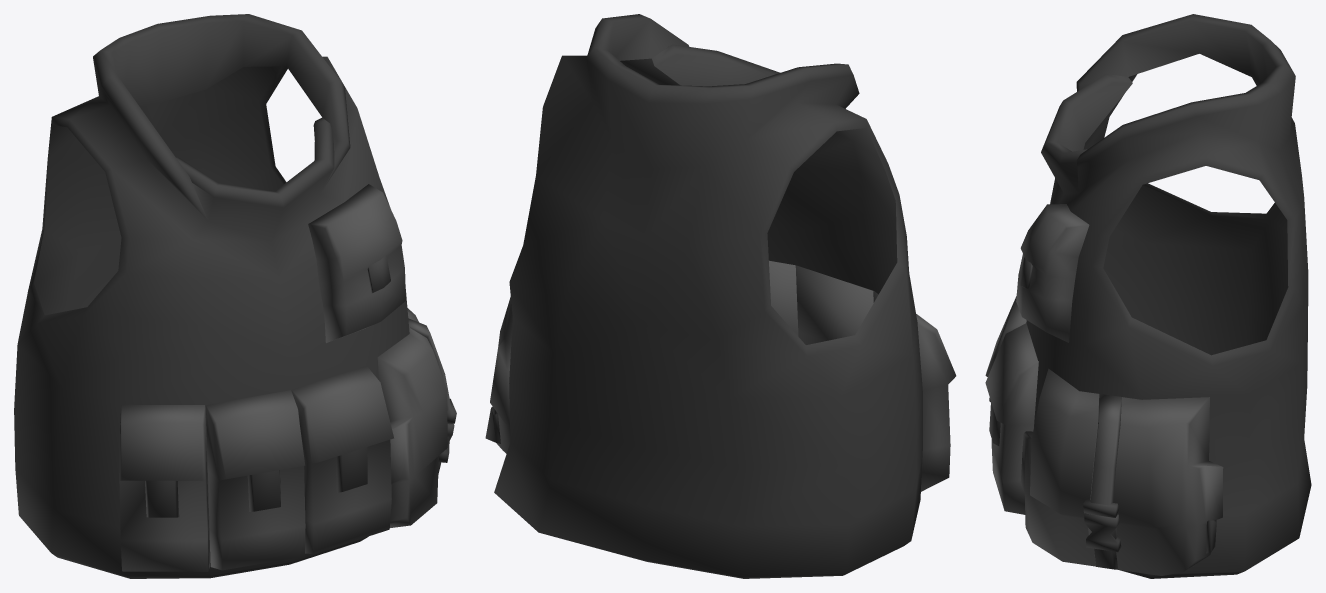
File: coat-Black.fbx
The picture shows the model from 3 angles, left to right: view 1: azimuth 30°, elevation 25°; view 2: azimuth 150°, elevation 25°; view 3: azimuth 270°, elevation 25°; orthographic projection. The views are drawn at different scales.
Parts seen in each view (by area): view 1: coat-Black; view 2: coat-Black; view 3: coat-Black.
Boxes of the visible parts, <box> form: coat-Black: <box>14,14,456,578</box>; coat-Black: <box>485,14,956,578</box>; coat-Black: <box>985,14,1311,578</box>.
Bounding box in the file's own units: 88.15 × 99.44 × 67.46.
